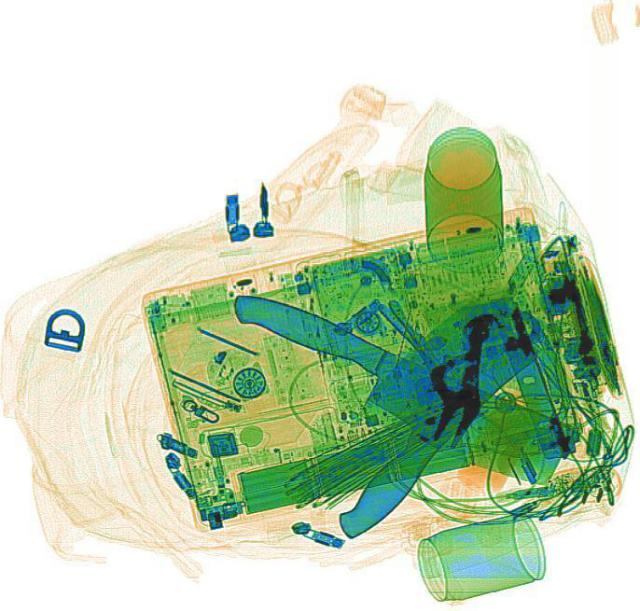Knife: (207, 280, 578, 491), (276, 292, 544, 541)
